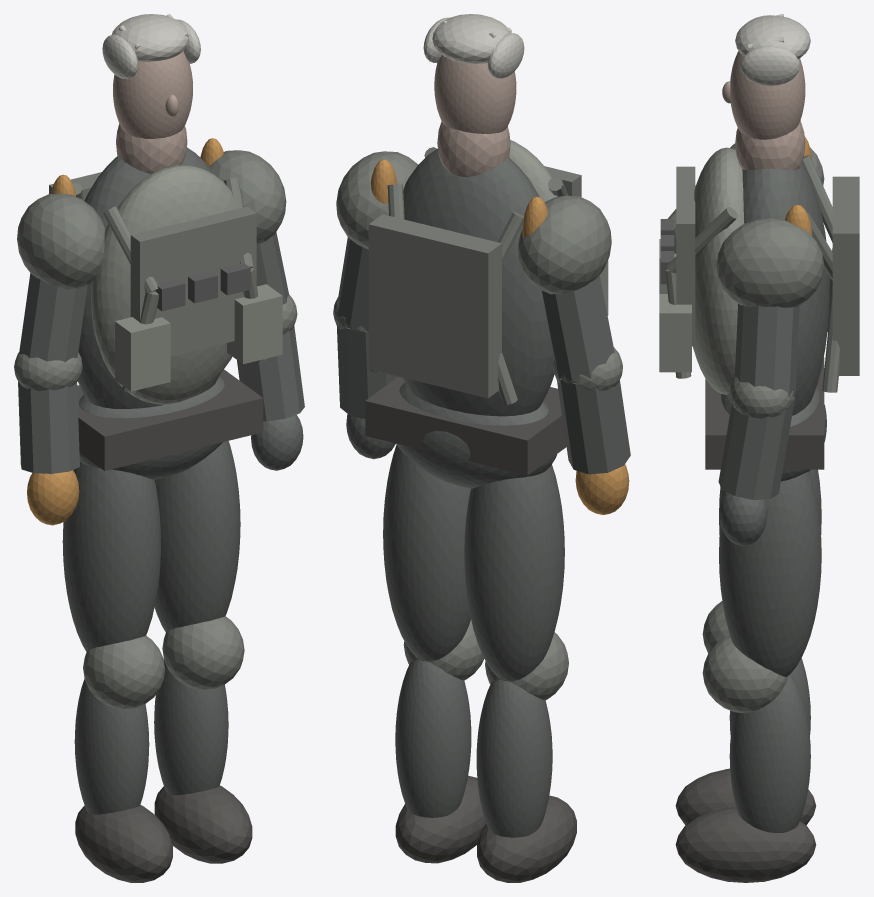
Rendered from hahnemann_prototype.glb.
The picture shows the model from 3 angles, left to right: view 1: azimuth 30°, elevation 25°; view 2: azimuth 150°, elevation 25°; view 3: azimuth 270°, elevation 25°; orthographic projection. The views are drawn at different scales.
Visible parts, largest first — view 1: thigh_-1, thigh_1, vest, vest_plate, sleeve_-1, belt, shin_-1, shin_1, shoulder_-1, boot_-1, boot_1, torso_suit (+19 smaller); view 2: back_panel, thigh_-1, torso_suit, thigh_1, sleeve_-1, shin_-1, shin_1, belt, shoulder_-1, sleeve_1, hips, head (+15 smaller); view 3: thigh_1, sleeve_1, shin_1, vest, shoulder_1, boot_1, torso_suit, back_panel, head, knee_1, belt, vest_plate (+15 smaller).
Part boxes in pixels (x1,y1,x2,y2): thigh_-1: [62, 461, 161, 651]; thigh_1: [154, 441, 240, 632]; vest: [91, 165, 235, 404]; vest_plate: [130, 206, 256, 356]; sleeve_-1: [18, 273, 87, 473]; belt: [77, 369, 263, 470]; shin_-1: [74, 679, 149, 814]; shin_1: [154, 660, 228, 795]; shoulder_-1: [17, 193, 105, 289]; boot_-1: [75, 805, 172, 882]; boot_1: [154, 785, 252, 863]; torso_suit: [77, 147, 219, 408]; back_panel: [368, 214, 501, 398]; thigh_-1: [464, 464, 564, 681]; torso_suit: [402, 148, 554, 416]; thigh_1: [383, 444, 470, 661]; sleeve_-1: [541, 275, 630, 474]; shin_-1: [476, 679, 552, 837]; shin_1: [395, 660, 471, 817]; belt: [365, 376, 566, 475]; shoulder_-1: [518, 195, 611, 294]; sleeve_1: [336, 237, 397, 418]; hips: [396, 382, 557, 488]; head: [434, 55, 516, 133]; thigh_1: [719, 471, 821, 676]; sleeve_1: [718, 303, 799, 499]; shin_1: [729, 674, 810, 832]; vest: [692, 147, 744, 394]; shoulder_1: [716, 218, 824, 307]; boot_1: [675, 807, 816, 882]; torso_suit: [727, 162, 829, 415]; back_panel: [832, 176, 859, 375]; head: [730, 51, 805, 139]; knee_1: [702, 636, 788, 713]; belt: [705, 357, 824, 469]; vest_plate: [676, 166, 695, 346].
Bounding box in the file's own units: 0.5924 × 1.71 × 0.37.
